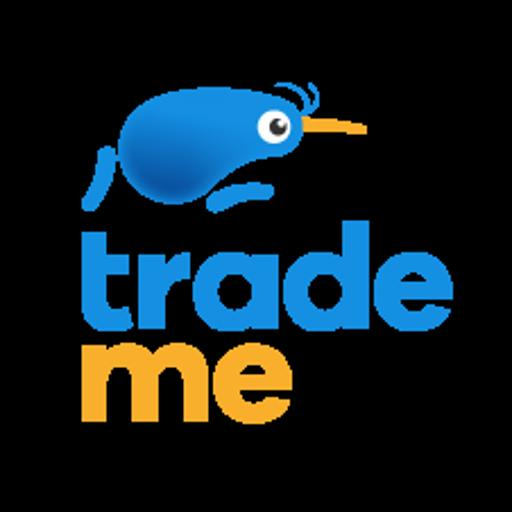Trade Me NZ: (0, 71, 512, 440)
